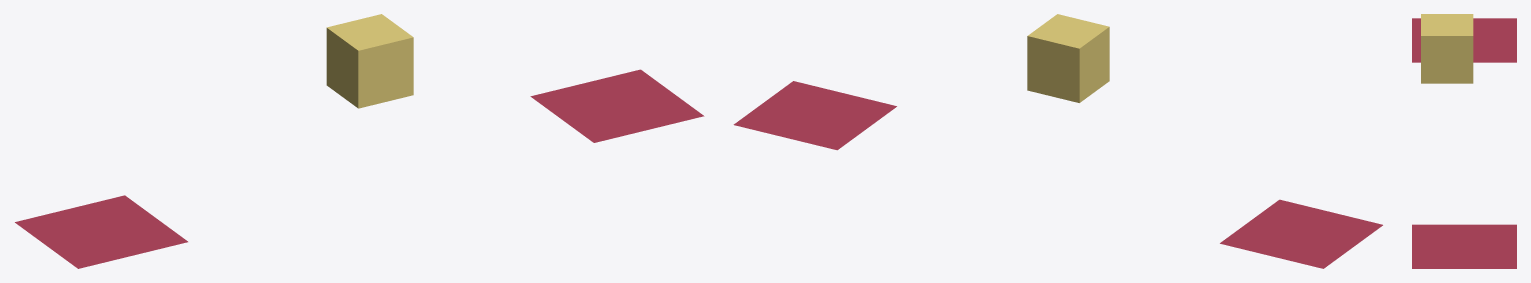
3 renders of one model, left to right at view 1: azimuth 30°, elevation 25°; view 2: azimuth 150°, elevation 25°; view 3: azimuth 270°, elevation 25°, orthographic. The views are drawn at different scales.
Parts seen in each view (by area): view 1: CurtainR, CurtainL, Proscenium; view 2: CurtainL, CurtainR, Proscenium; view 3: CurtainR, Proscenium, CurtainL.
Part boxes in pixels (<box>): CurtainR: <box>530,69,704,142</box>; CurtainL: <box>15,195,187,268</box>; Proscenium: <box>326,14,413,108</box>; CurtainL: <box>1220,199,1382,268</box>; CurtainR: <box>733,81,896,150</box>; Proscenium: <box>1027,14,1109,102</box>; CurtainR: <box>1412,224,1516,268</box>; Proscenium: <box>1421,14,1473,83</box>; CurtainL: <box>1412,18,1516,62</box>.
Bounding box in the file's own units: 1.7 × 0.375 × 0.3.
